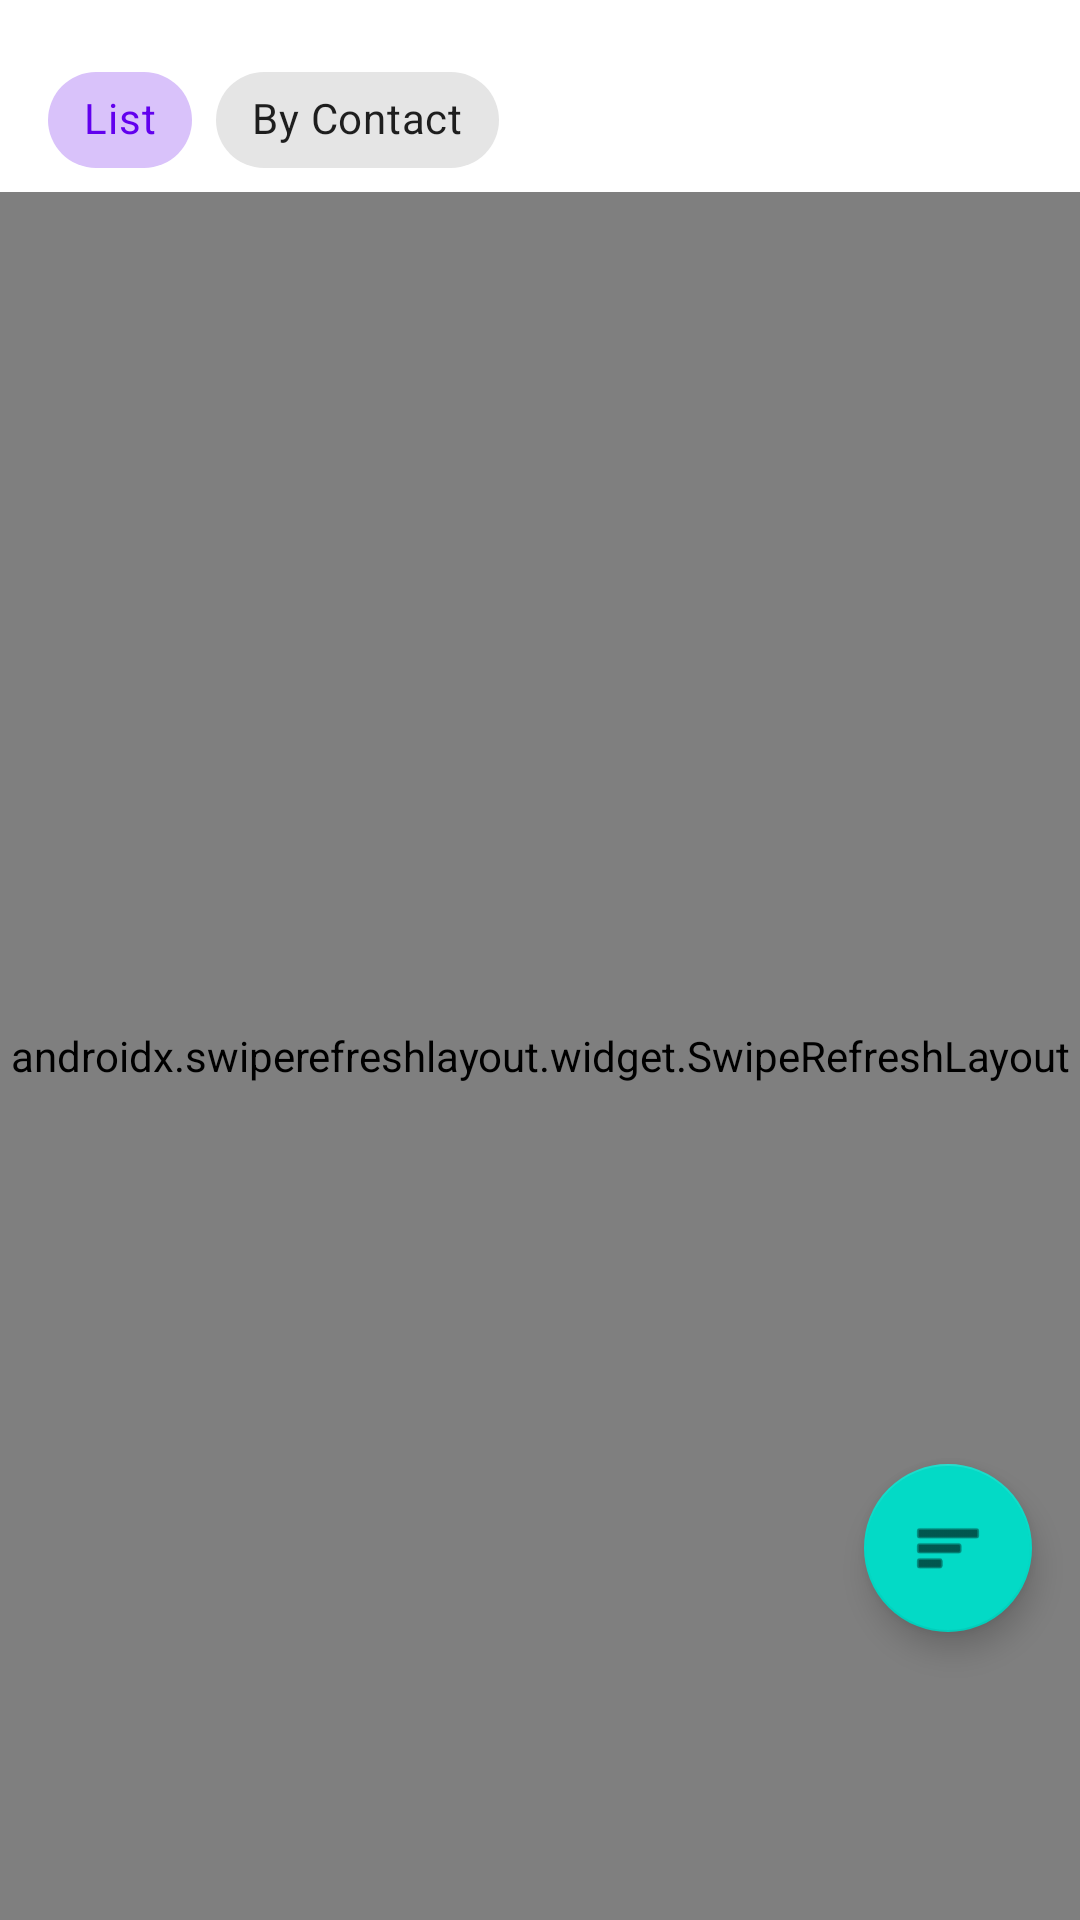

Locate icon controls on the screen. Image size 1080w x 1920h, boxes as (x1, y1, x2, y2).
Sort By: (864, 1464, 1032, 1632)
